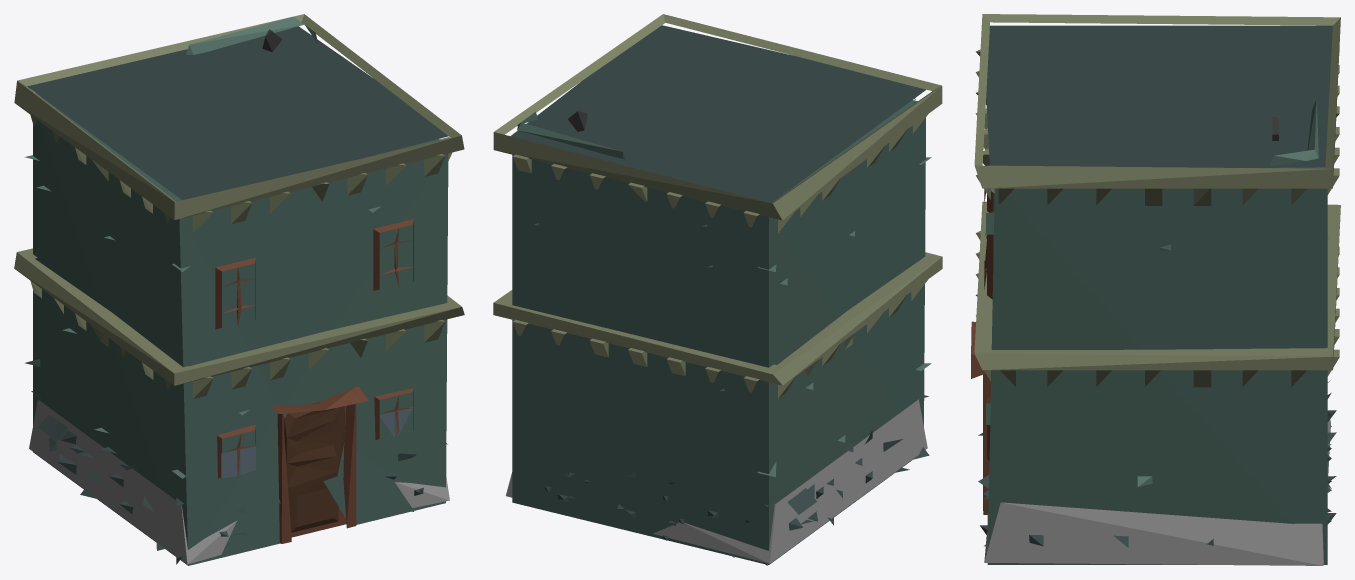
The model's file is 2Story_2_lod.glb.
The picture shows the model from 3 angles, left to right: view 1: azimuth 30°, elevation 25°; view 2: azimuth 150°, elevation 25°; view 3: azimuth 270°, elevation 25°; orthographic projection. The views are drawn at different scales.
Visible parts, largest first — view 1: 2Story_2_Mat; view 2: 2Story_2_Mat; view 3: 2Story_2_Mat.
Boxes of the visible parts, bbox=[...] form: 2Story_2_Mat: bbox=[14, 14, 464, 565]; 2Story_2_Mat: bbox=[493, 14, 942, 565]; 2Story_2_Mat: bbox=[971, 14, 1340, 565].
Size of the model in its own units: 2.16 by 2.75 by 2.17.
